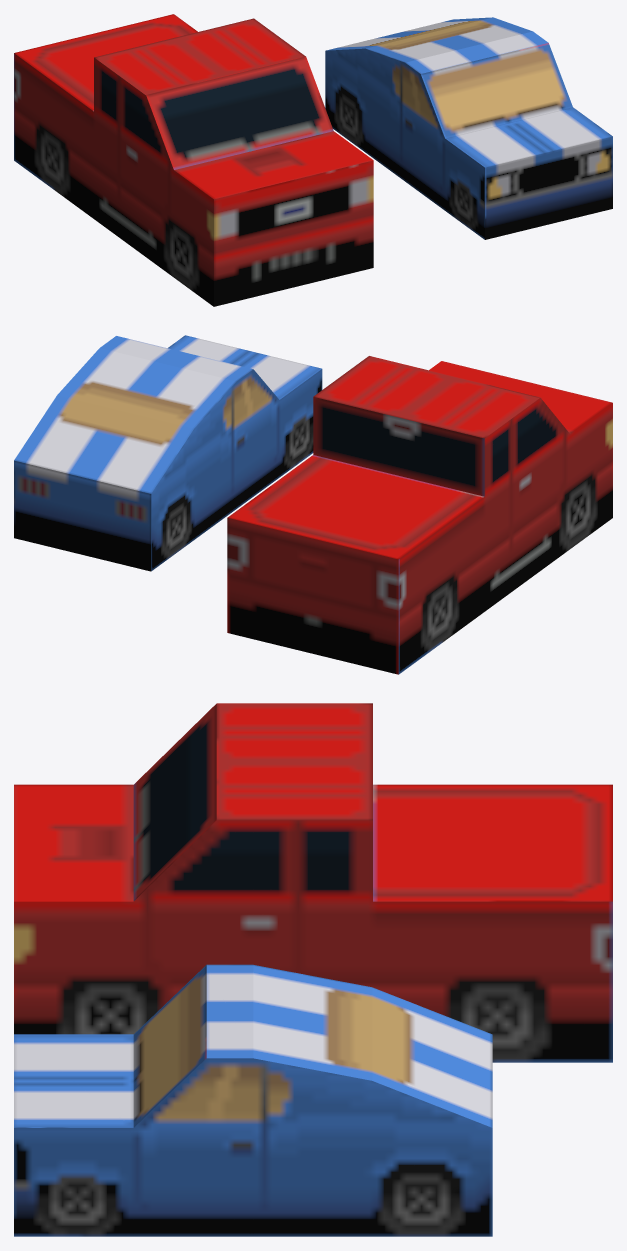
Rendered from low_poly_cars.fbx.
The picture shows the model from 3 angles, top to bottom: view 1: azimuth 30°, elevation 25°; view 2: azimuth 150°, elevation 25°; view 3: azimuth 270°, elevation 25°; orthographic projection. The views are drawn at different scales.
Parts seen in each view (by area): view 1: Cube.001, Cube; view 2: Cube.001, Cube; view 3: Cube.001, Cube.
Part boxes in pixels (x1,y1,x2,y2): Cube.001: (14, 14, 373, 306); Cube: (325, 17, 612, 239); Cube.001: (227, 356, 612, 674); Cube: (14, 335, 322, 571); Cube.001: (14, 703, 612, 1062); Cube: (14, 964, 492, 1236).
Bounding box in the file's own units: 925 × 358 × 802.
Materials: 1 (1 with a texture image).
